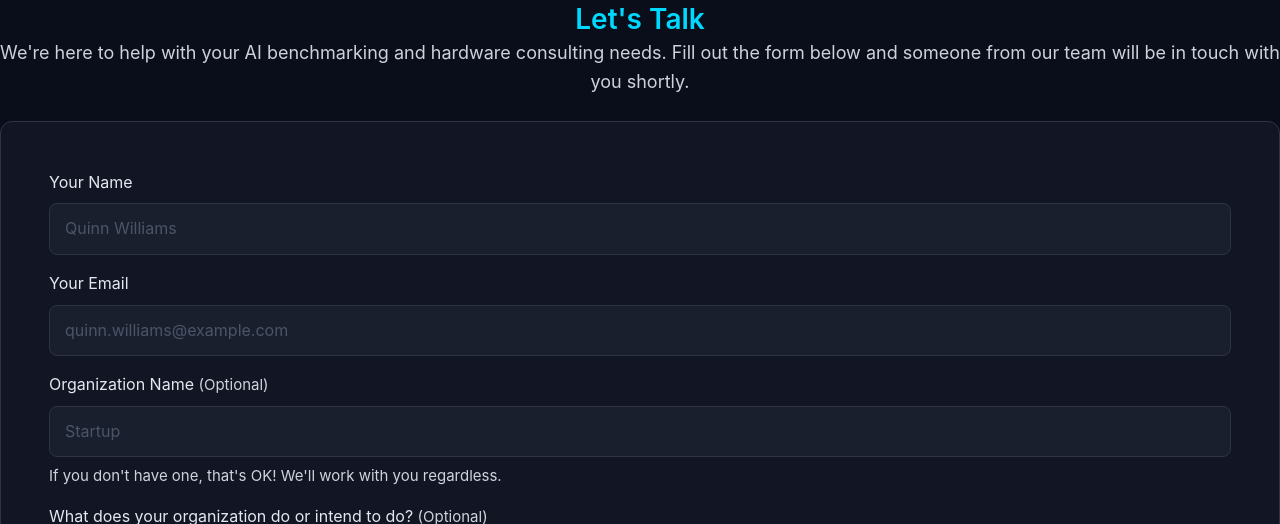
Scenario: ContactForm › displays validation error when email is empty
The width and height of the screenshot is (1280, 524).
Type "John Doe" into the field named "name".
click(640, 229); type("John Doe")  # box [49,203,1231,255]
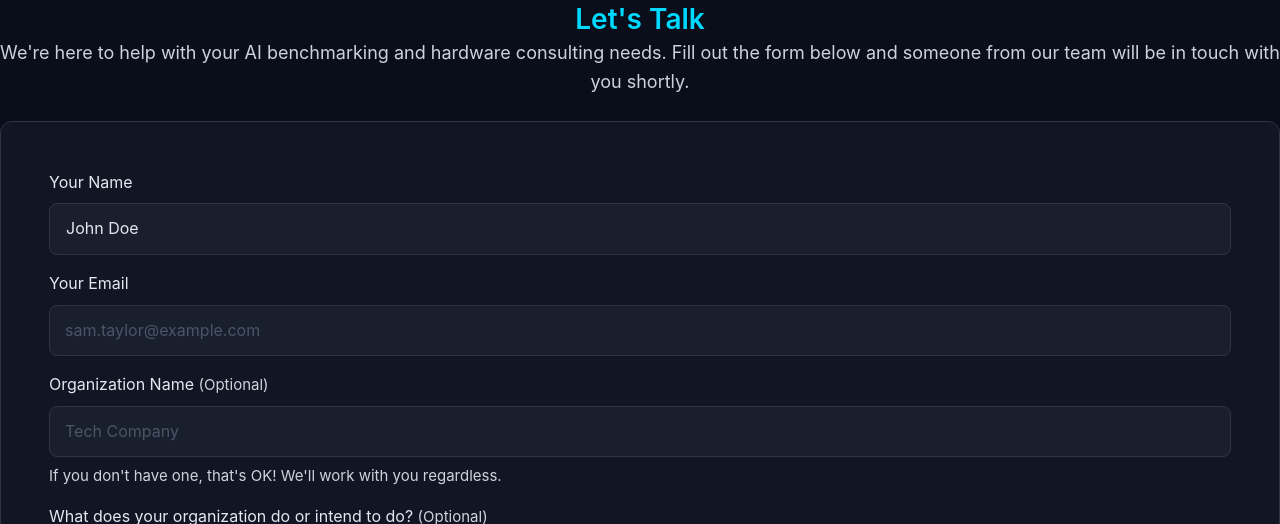
Clear the field named "email" at (640, 330), box [49,305,1231,356]
(page scrolled)
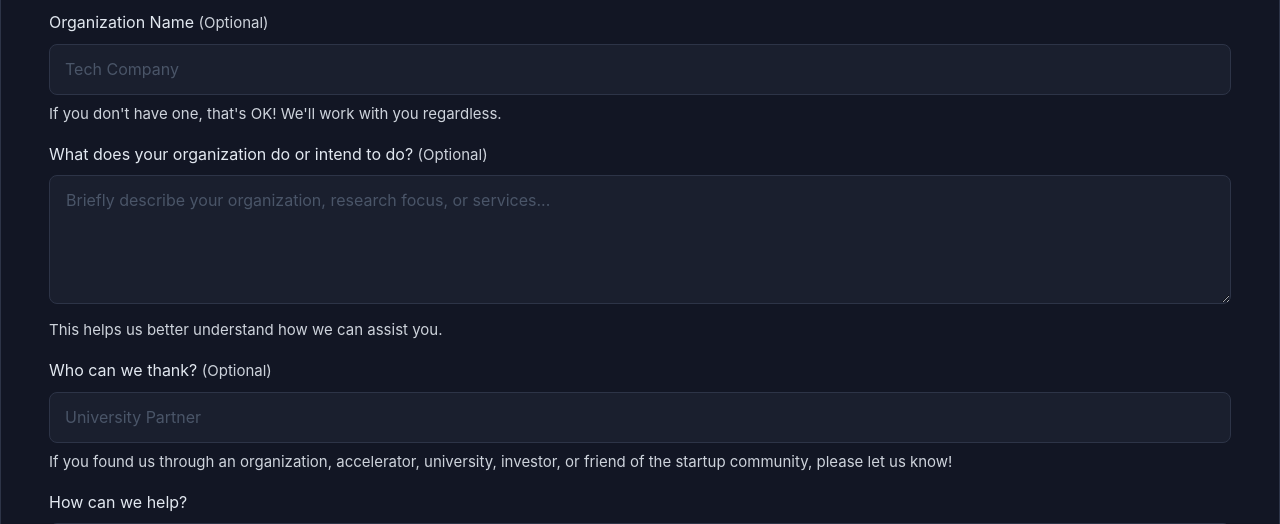
Submit the form
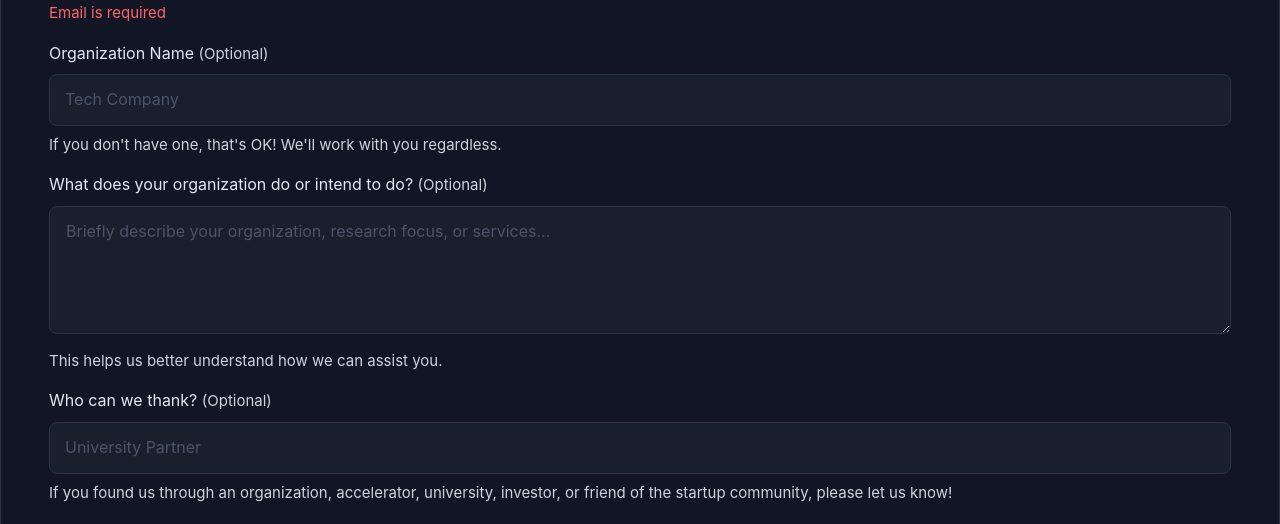
Expected: the text "Email is required" is shown, [49,3,166,22]
